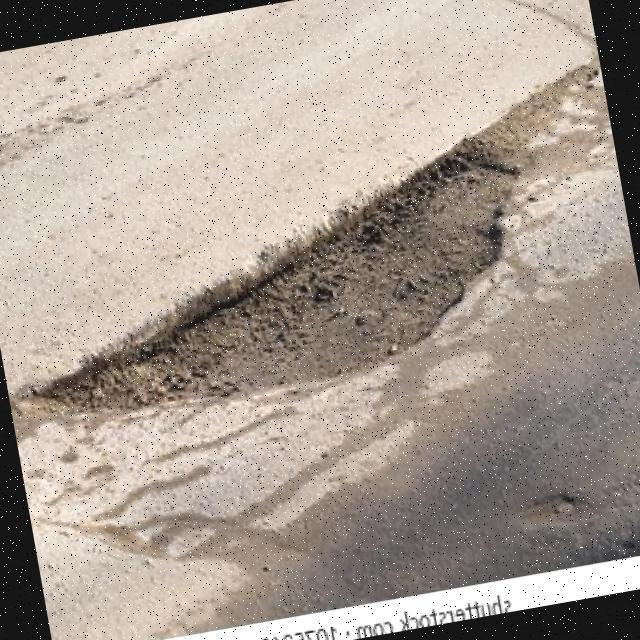Pothole: (22, 155, 515, 416)
